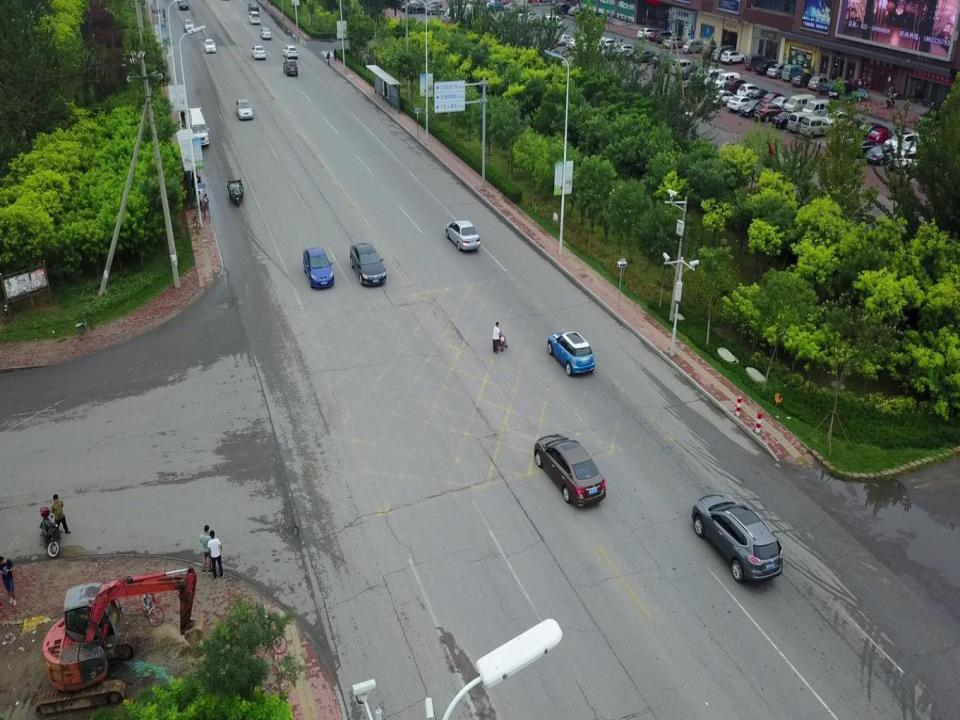car: (689, 492, 783, 586), (532, 432, 606, 508), (545, 330, 596, 378), (347, 242, 387, 288), (300, 246, 335, 290), (446, 218, 482, 254), (886, 147, 924, 174), (884, 130, 921, 155), (865, 143, 900, 167), (822, 110, 852, 132), (754, 100, 783, 122), (853, 139, 883, 158), (739, 98, 767, 118), (771, 110, 800, 129), (727, 95, 756, 114), (735, 82, 764, 100), (712, 88, 741, 106), (235, 97, 255, 122), (858, 122, 889, 138), (828, 83, 857, 100), (807, 74, 831, 93), (867, 128, 895, 144), (790, 72, 818, 88), (720, 49, 745, 66), (723, 77, 749, 93), (748, 88, 774, 103), (767, 63, 791, 79), (771, 95, 794, 111), (755, 60, 778, 76), (655, 30, 678, 45), (760, 93, 786, 106), (282, 57, 298, 78), (651, 54, 675, 68), (633, 48, 655, 63), (664, 36, 686, 49), (566, 37, 588, 50), (250, 44, 266, 61), (637, 28, 659, 40), (406, 3, 430, 14), (649, 30, 669, 42), (616, 44, 636, 56), (556, 33, 574, 46), (282, 44, 298, 58), (600, 38, 618, 50), (555, 3, 574, 14), (203, 38, 216, 54), (425, 5, 445, 15), (259, 26, 272, 40), (183, 18, 195, 32), (248, 12, 260, 25), (487, 0, 504, 9), (247, 1, 259, 13), (177, 0, 189, 11), (568, 6, 582, 15)
van: (185, 105, 210, 147), (784, 93, 816, 117), (799, 115, 831, 138), (786, 111, 817, 133), (802, 98, 829, 118), (713, 72, 740, 92), (744, 52, 769, 72), (702, 66, 725, 86), (710, 45, 735, 63), (782, 64, 806, 82), (670, 58, 692, 76), (682, 38, 704, 54), (544, 14, 562, 28)
